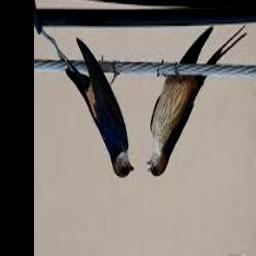Swallow: (147, 27, 248, 176), (42, 30, 135, 178)
